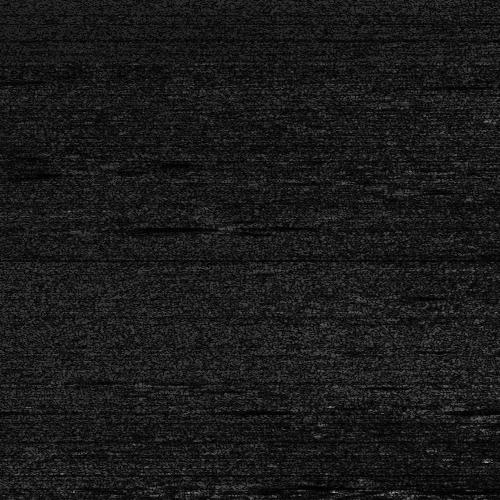rock: (410, 403, 500, 414), (57, 223, 120, 230)
shadow: (89, 223, 180, 230), (457, 403, 500, 414)
